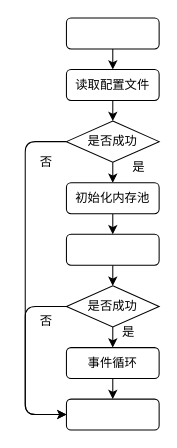
The diagram is 177 pixels wide and 448 high, and some of its shapes have lost their labels. The centre of each missing label's shape, as x and y in pixels:
初始化UDP实例: (x=112, y=249)
程序启动: (x=112, y=33)
退出程序: (x=112, y=414)
